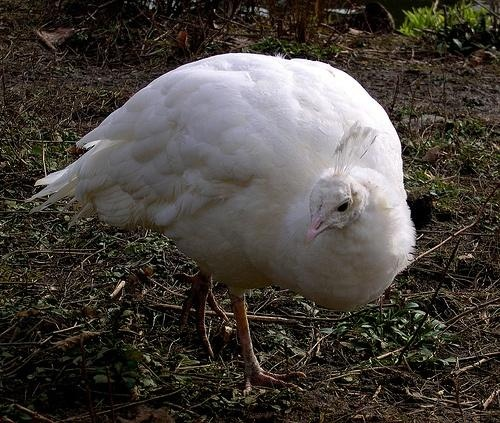bird: (25, 53, 418, 399)
